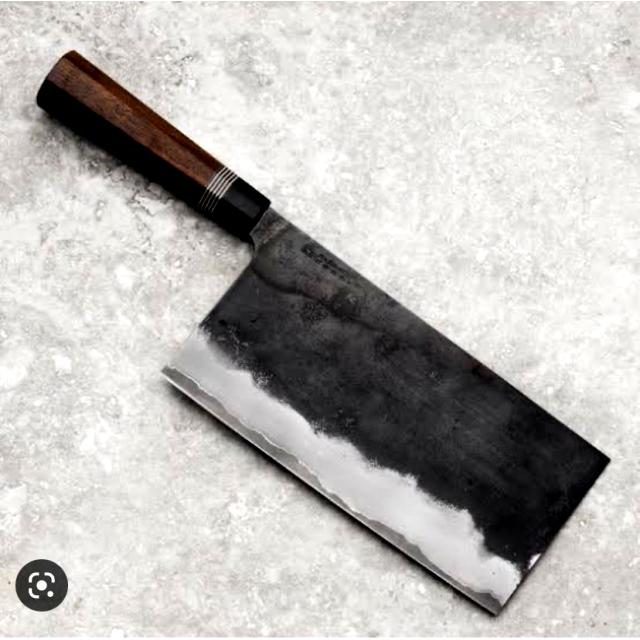knife: (15, 25, 635, 632)
